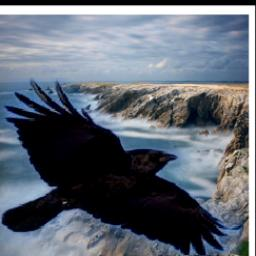Crow: (0, 79, 243, 256)
